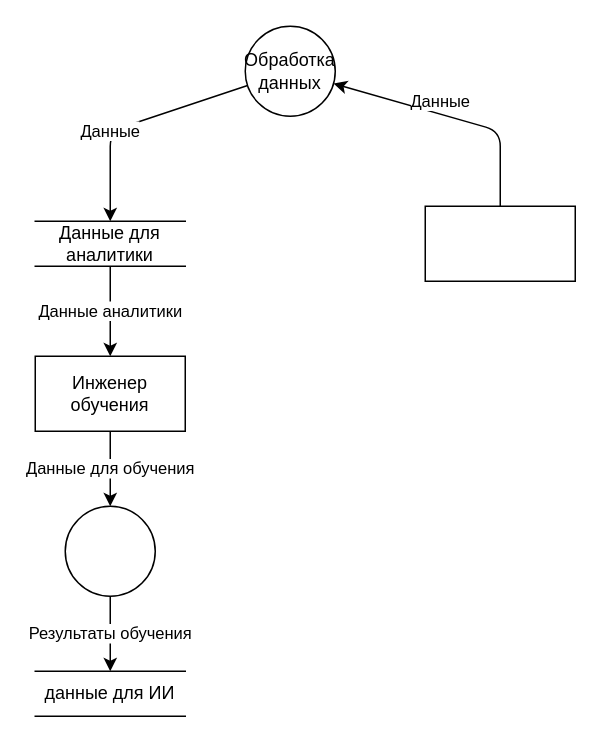
The diagram is 602 pixels wide and 743 high, and some of its shapes have lost their labels. The centre of each missing label's shape, as x and y in pixels:
Аналитик: pixel 499 243
Подготовка данных для ИИ: pixel 109 550
